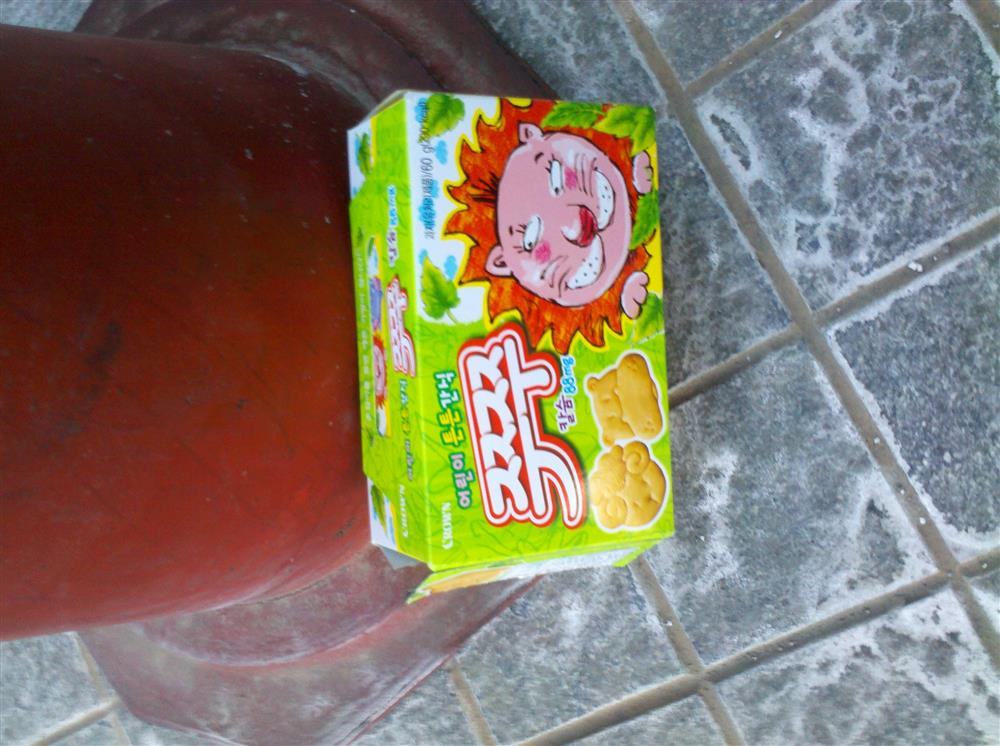Crown_Biscuit: (385, 93, 681, 550)
